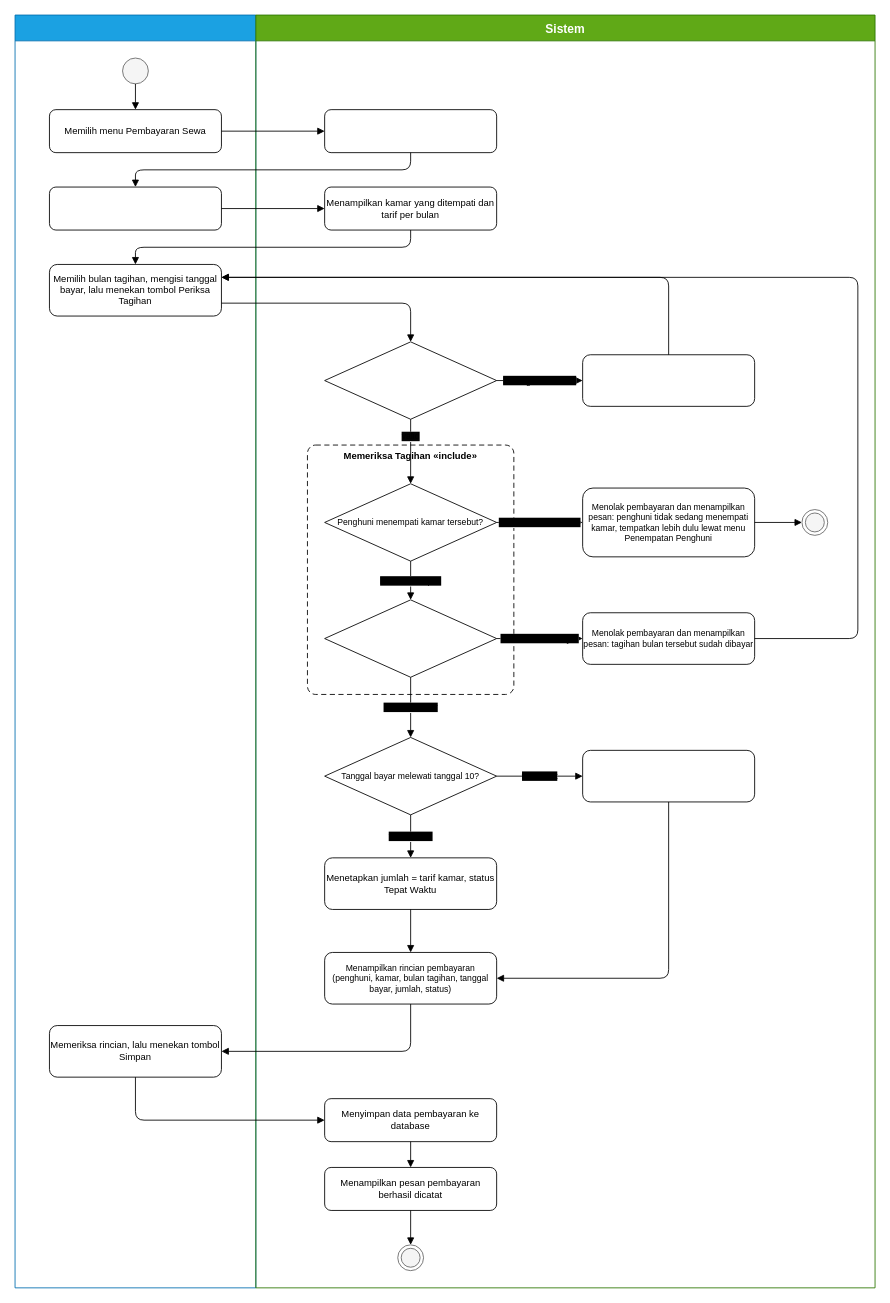
Some shapes in this 890 by 1303 pixel diagram are drawn without their labels. Here are the shapes that lost their labels. From the top down, the box of each, then its label:
(324, 109, 497, 153): Menampilkan form pembayaran sewa
(49, 186, 221, 230): Memilih penghuni yang membayar
(324, 341, 497, 419): Bulan tagihan dan tanggal bayar valid?
(582, 354, 755, 406): Menampilkan pesan: bulan tagihan dan tanggal bayar harus diisi dengan valid
(14, 14, 256, 1288): Petugas
(324, 599, 497, 677): Bulan tagihan sudah dibayar?
(582, 749, 755, 802): Menambahkan denda Rp10.000: jumlah = tarif + Rp10.000, status Terlambat
